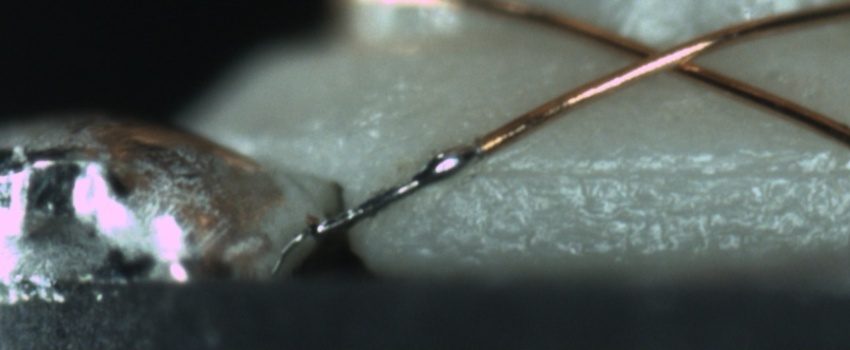CL: (605, 31, 724, 82)
DL: (461, 133, 849, 209)
TS: (314, 143, 480, 235)
TTCW: (270, 115, 522, 277)
